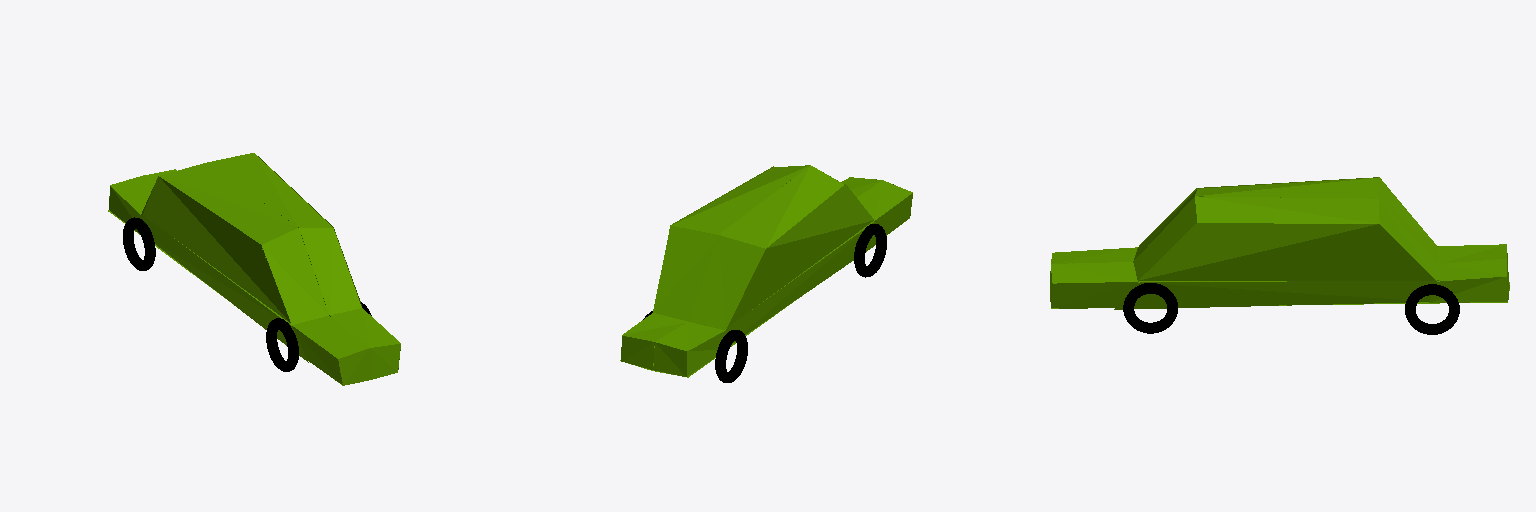
File: CAR.obj
The picture shows the model from 3 angles: view 1: azimuth 30°, elevation 25°; view 2: azimuth 150°, elevation 25°; view 3: azimuth 270°, elevation 25°; orthographic projection.
Parts seen in each view (by area): view 1: Plane, Torus.002, Torus.003; view 2: Plane, Torus.003, Torus.002; view 3: Plane, Torus.004, Torus, Torus.001.
Part boxes in pixels (left/top/right/bottom): Plane: left=108, top=153, right=400, bottom=385; Torus.002: left=266, top=318, right=298, bottom=371; Torus.003: left=123, top=217, right=155, bottom=270; Plane: left=620, top=165, right=912, bottom=377; Torus.003: left=715, top=330, right=747, bottom=382; Torus.002: left=854, top=224, right=886, bottom=277; Plane: left=1050, top=177, right=1509, bottom=309; Torus.004: left=1405, top=284, right=1459, bottom=334; Torus: left=1123, top=283, right=1177, bottom=333; Torus.001: left=1129, top=291, right=1172, bottom=330.
Bounding box in the file's own units: 1.82 × 2.16 × 7.55.